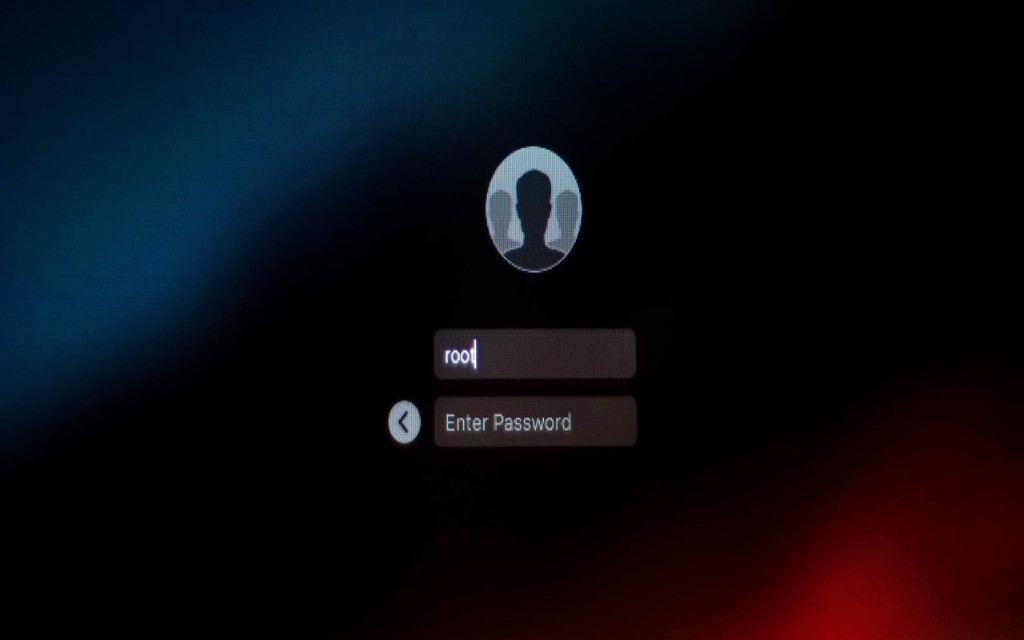label_password: (488, 407, 578, 439)
textbox: (434, 396, 637, 447), (431, 330, 638, 378)
